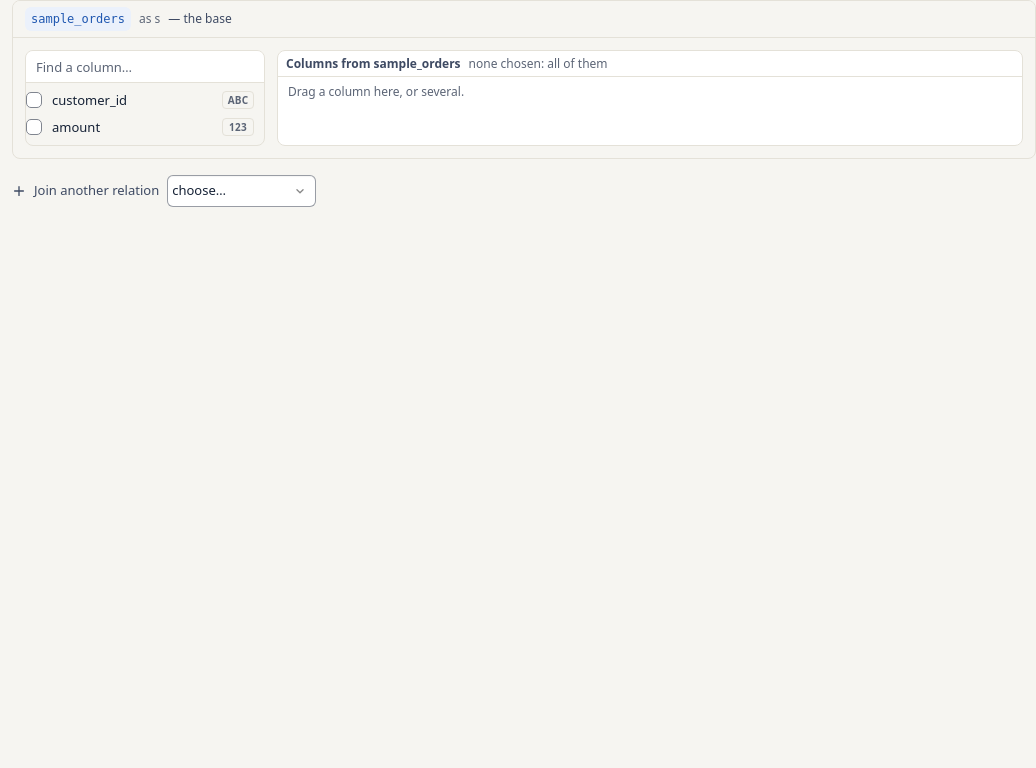
Scenario: JoinTab › waits for complete keys before it can run
Step 1. Select "sample_customers" in the dropdown labelled "Join another relation" → (242, 191), box [167,175,316,207]
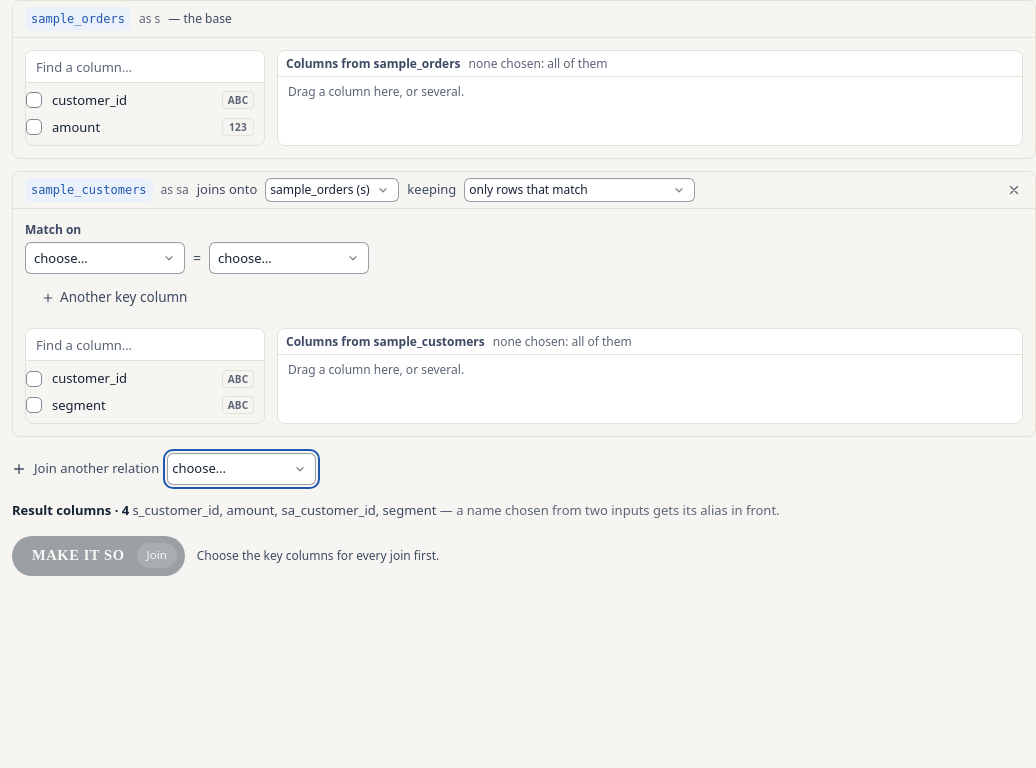
Expected: the button "Make it so Join" is disabled, [12,536,185,576]
Expected: the text "Choose the key columns for every join first." is shown, [197,547,439,564]
